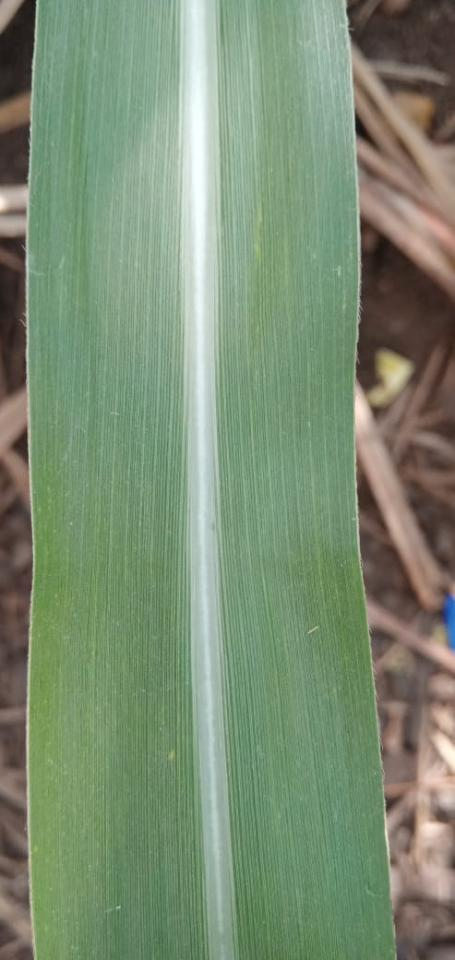Healthy: (28, 0, 394, 959)
